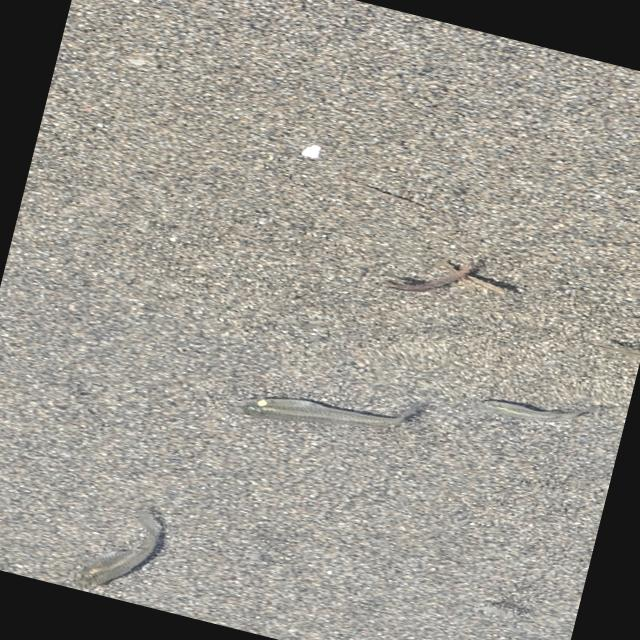Sivrisinek Baligi: (230, 365, 420, 463), (64, 494, 180, 608), (464, 376, 594, 444)
